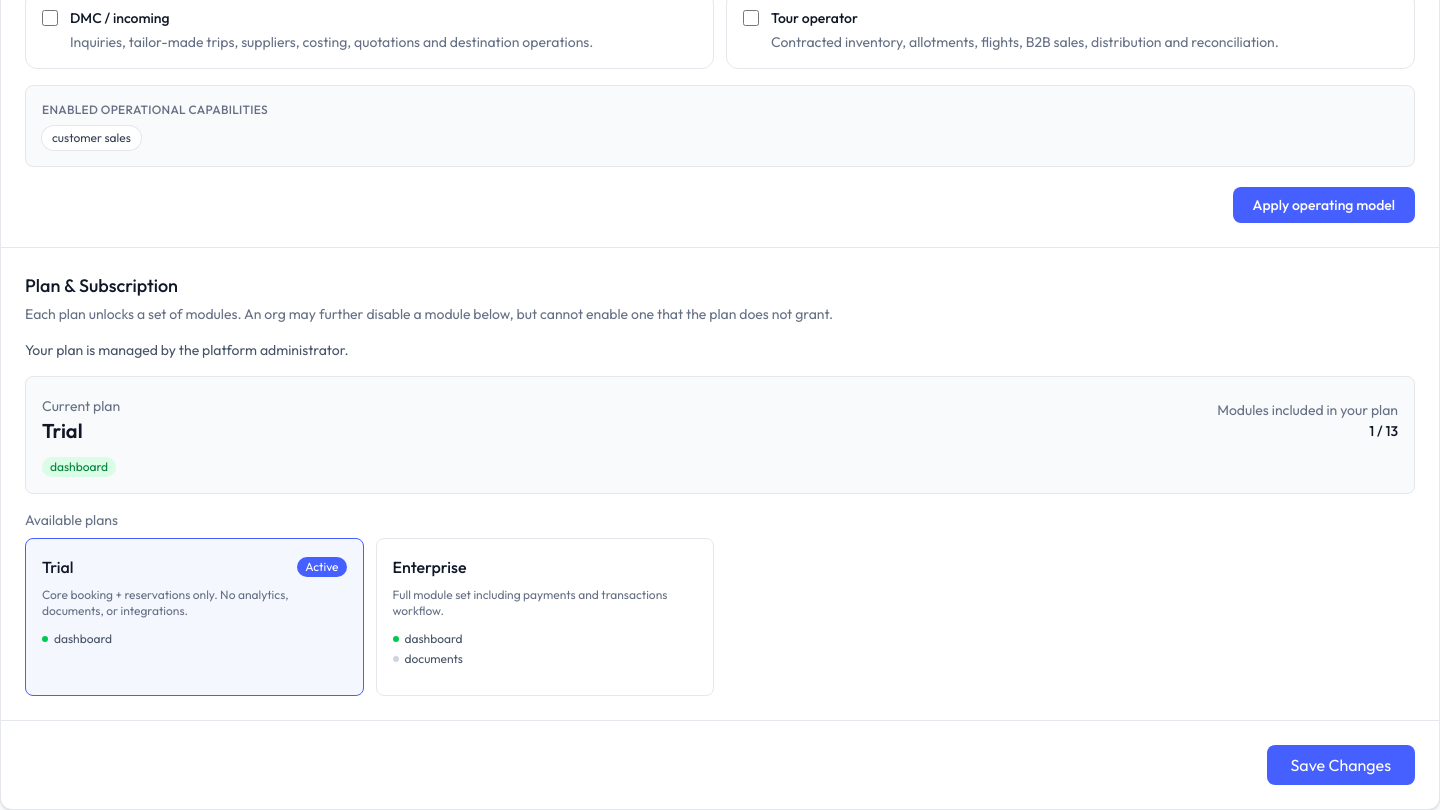
it: commercial settings save and entitlement safety › localizes blocked saves without exposing diagnostics (en)
(page scrolled)
Click the button with aria-label "Save organization settings" at point(1341, 765), box [1267,745,1415,785]
(page scrolled)
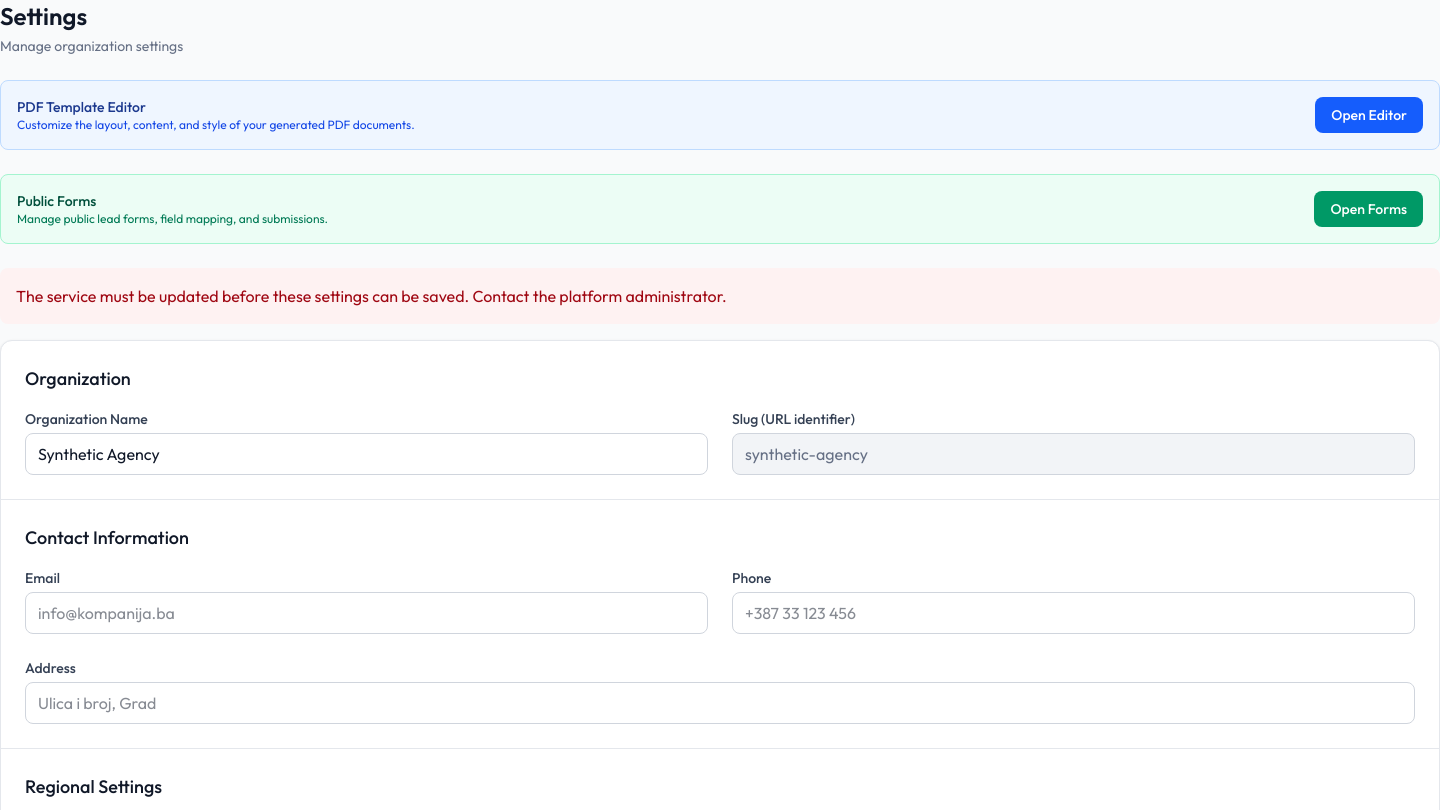
Expected: the text "The service must be updated before these settings can be saved. Contact the platform administrator." is shown, [16,286,727,306]
